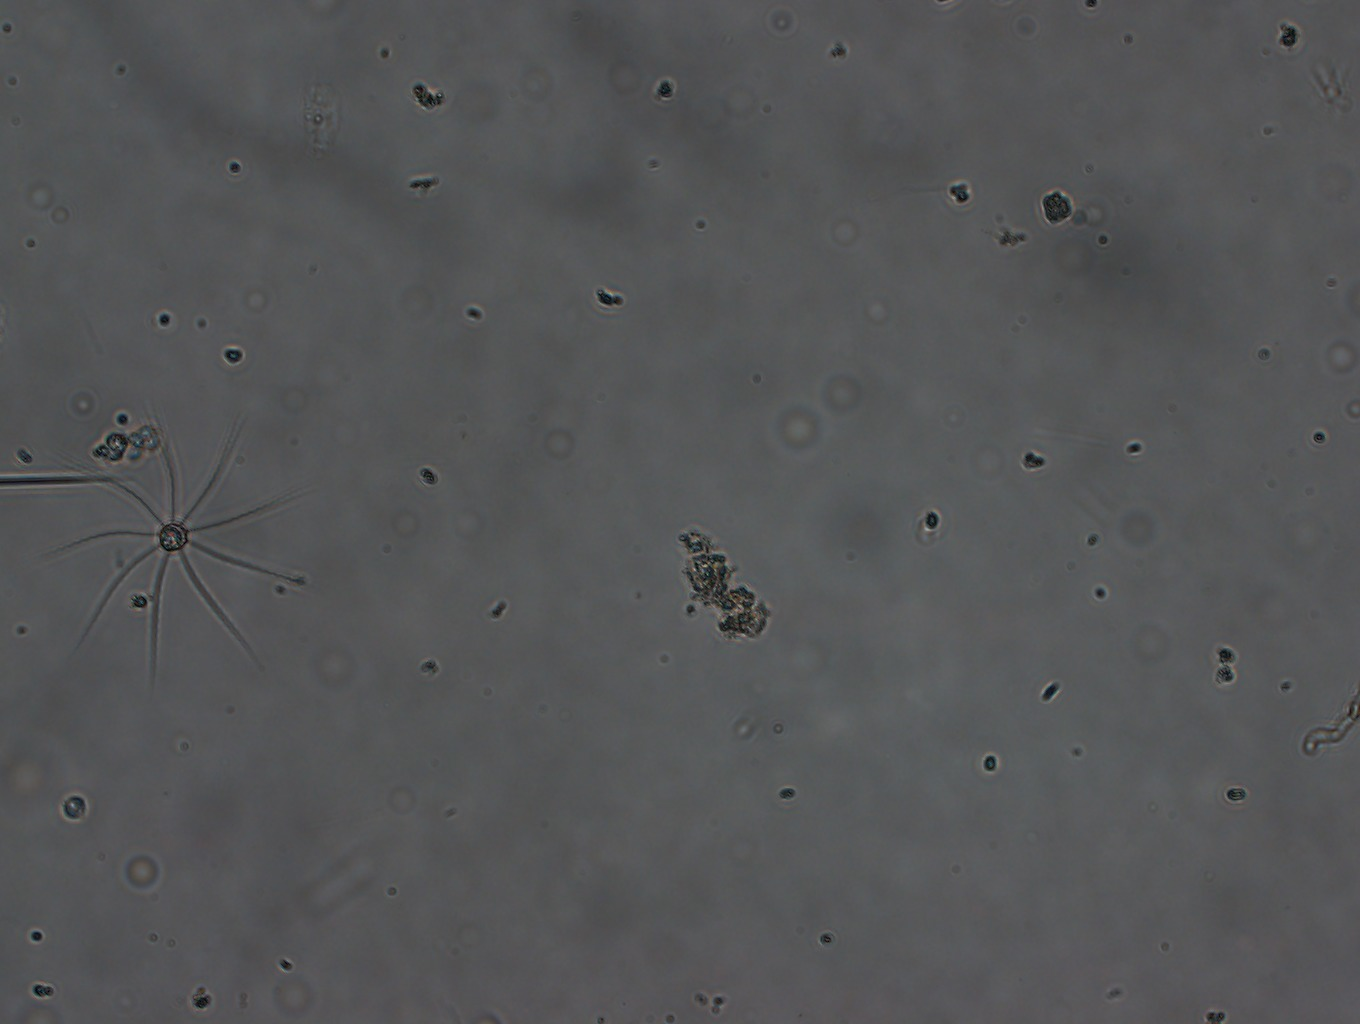bacteriastrum: (53, 425, 314, 702)
